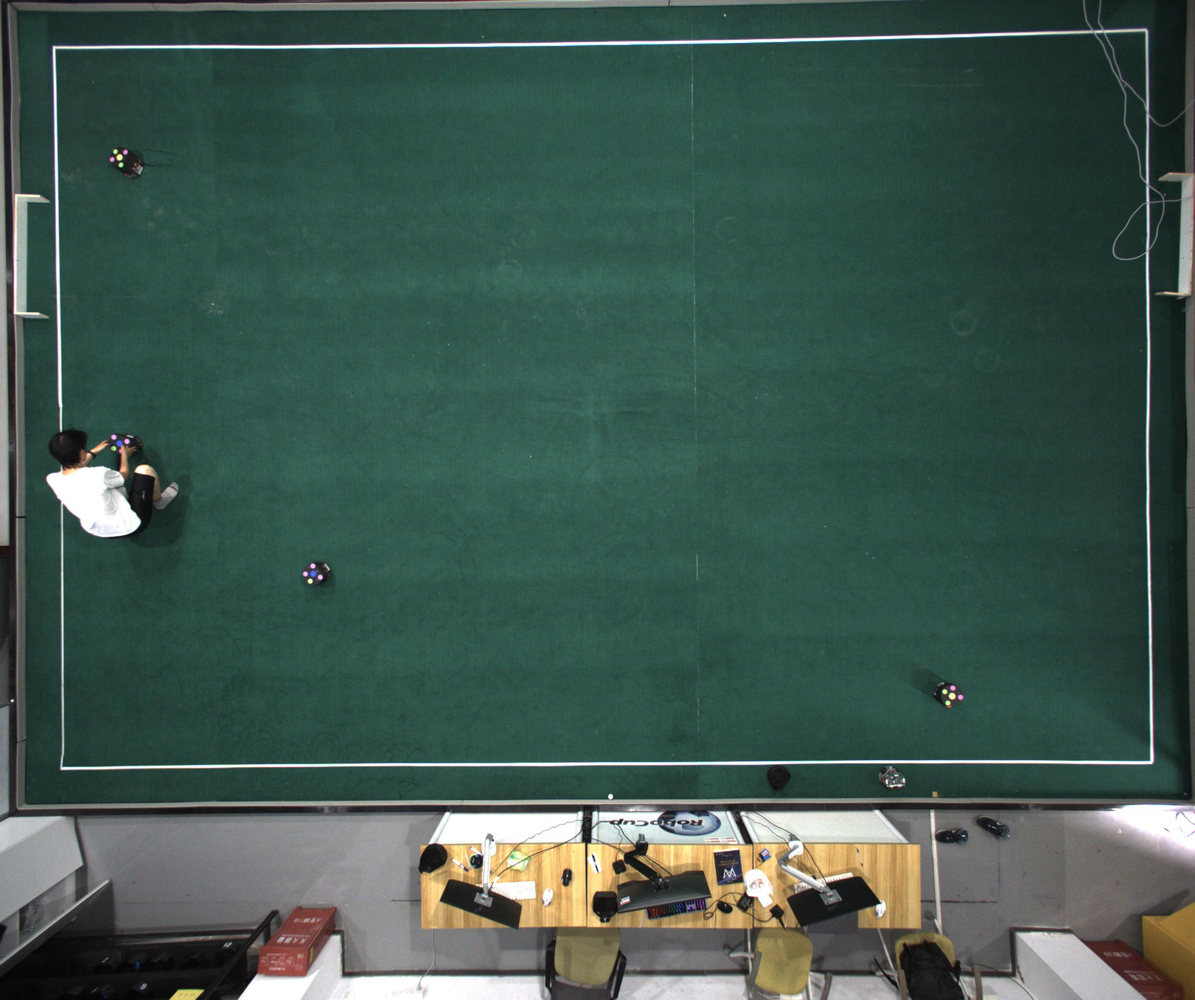blue_bot: (303, 563, 324, 585), (109, 434, 132, 453)
yellow_bot: (109, 147, 130, 170), (941, 685, 964, 706)
